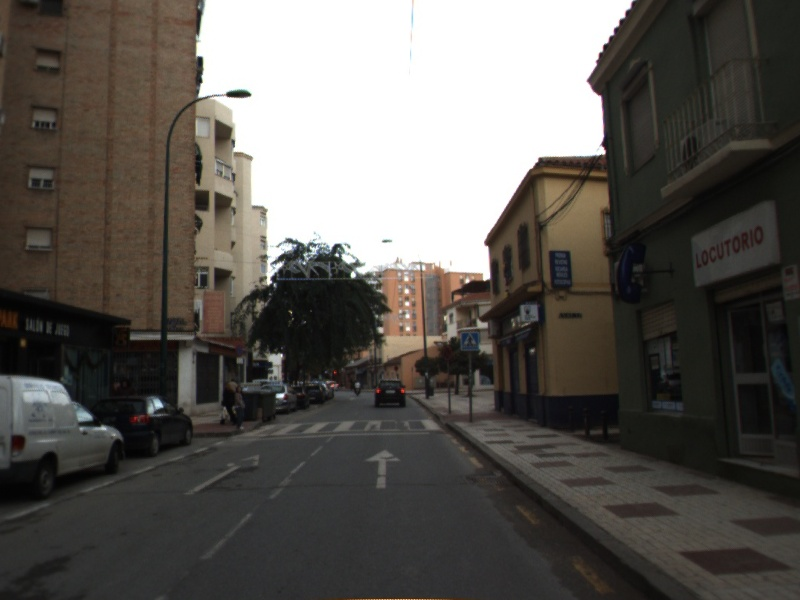STRAIGHT: (182, 452, 261, 498), (362, 447, 404, 491)
